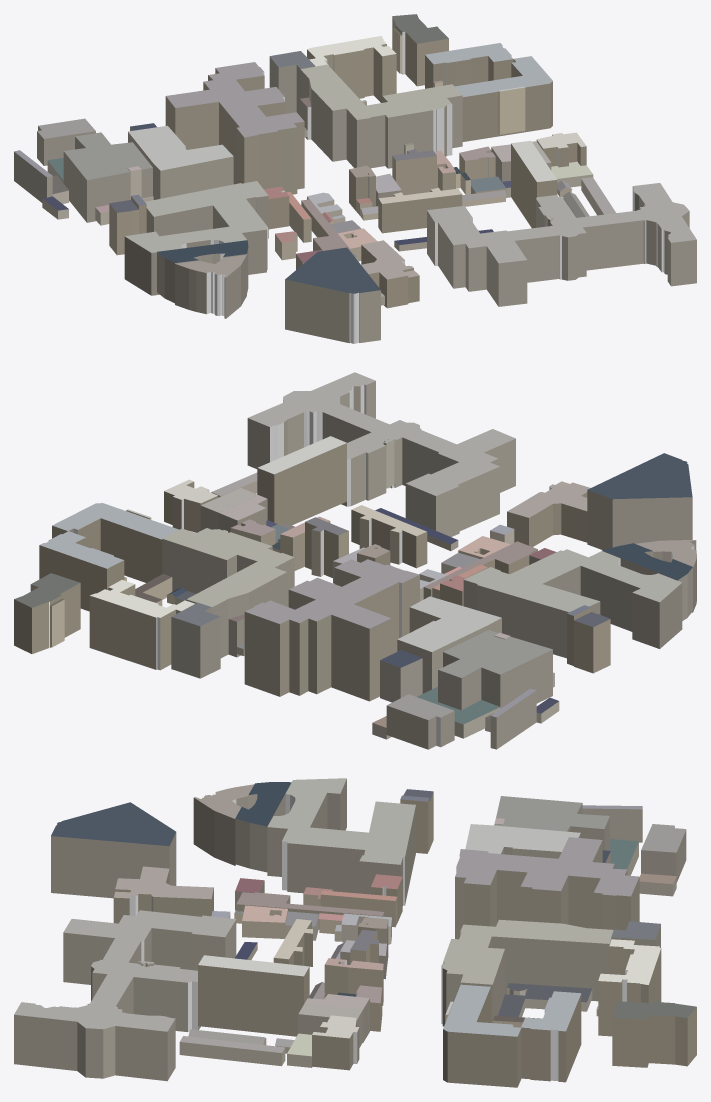
The picture shows the model from 3 angles, top to bottom: view 1: azimuth 30°, elevation 25°; view 2: azimuth 150°, elevation 25°; view 3: azimuth 270°, elevation 25°; orthographic projection. The views are drawn at different scales.
Visible parts, largest first — view 1: tuile; view 2: tuile; view 3: tuile.
Boxes of the visible parts, left/top/right/bottom form: tuile: left=14, top=14, right=696, bottom=343; tuile: left=14, top=372, right=696, bottom=749; tuile: left=14, top=778, right=696, bottom=1087.
Bounding box in the file's own units: 283 × 37.41 × 306.
